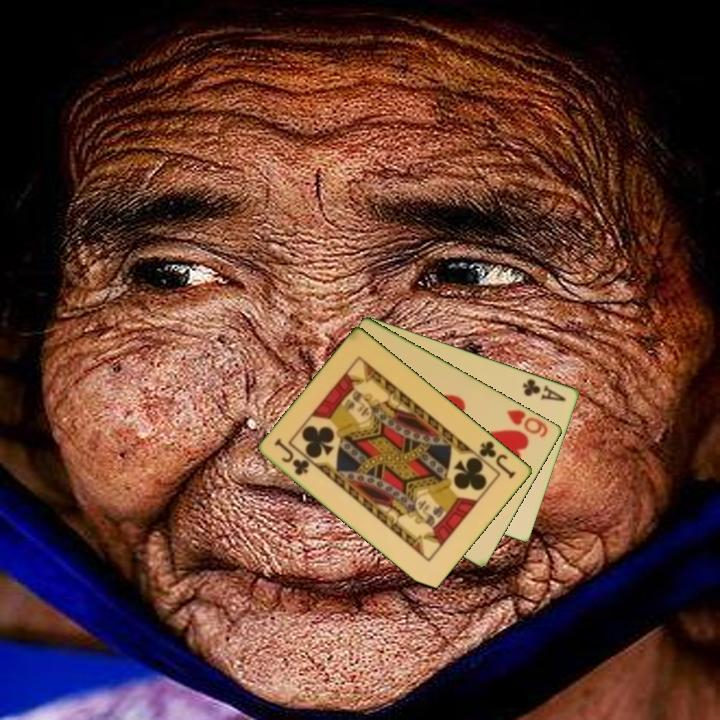6h: (503, 406, 551, 440)
Ac: (519, 375, 570, 404)
Jc: (476, 437, 519, 482), (271, 435, 313, 478)
